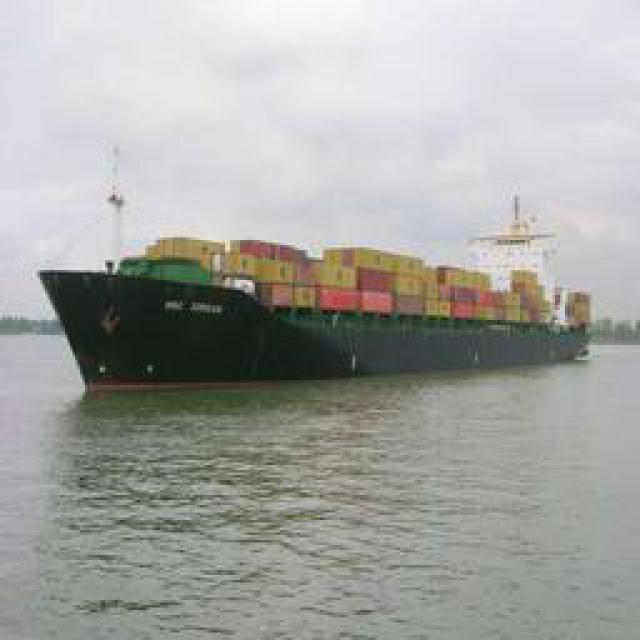Ship: (41, 180, 599, 380)
